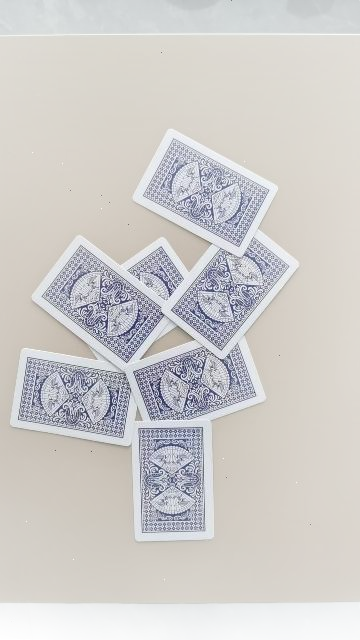card: (132, 129, 278, 256), (32, 235, 168, 369), (162, 230, 299, 359), (10, 349, 136, 446), (125, 338, 265, 421), (131, 420, 214, 541), (121, 238, 188, 300)
